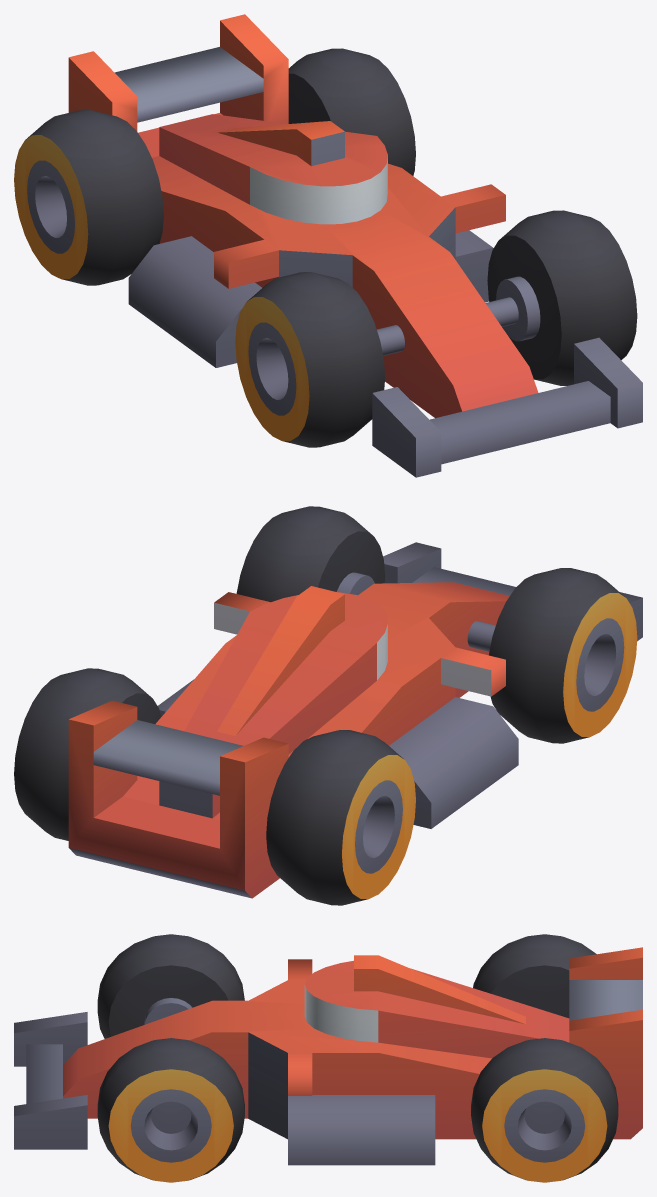
File: race_car.glb
The picture shows the model from 3 angles, top to bottom: view 1: azimuth 30°, elevation 25°; view 2: azimuth 150°, elevation 25°; view 3: azimuth 270°, elevation 25°; orthographic projection. The views are drawn at different scales.
Visible parts, largest first — view 1: body, wheel-back-right, wheel-front-right, wheel-front-left, wheel-back-left; view 2: body, wheel-back-right, wheel-front-right, wheel-back-left, wheel-front-left; view 3: body, wheel-back-left, wheel-front-left, wheel-front-right, wheel-back-right.
Boxes of the visible parts, x1,y1,x2,y2 form: body: (68,14,642,477); wheel-back-right: (14,110,163,285); wheel-front-right: (235,272,385,447); wheel-front-left: (487,210,637,385); wheel-back-left: (288,48,415,175); body: (68,542,642,898); wheel-back-right: (266,730,415,905); wheel-front-right: (489,568,637,743); wheel-back-left: (14,668,161,840); wheel-front-left: (236,506,385,602); body: (14,947,642,1165); wheel-back-left: (471,1038,618,1182); wheel-front-left: (97,1038,244,1182); wheel-front-right: (97,934,244,1038); wheel-back-right: (473,934,596,1018).
Size of the model in its own units: 1.3 by 0.7325 by 2.56.
Materials: 1 (1 with a texture image).
